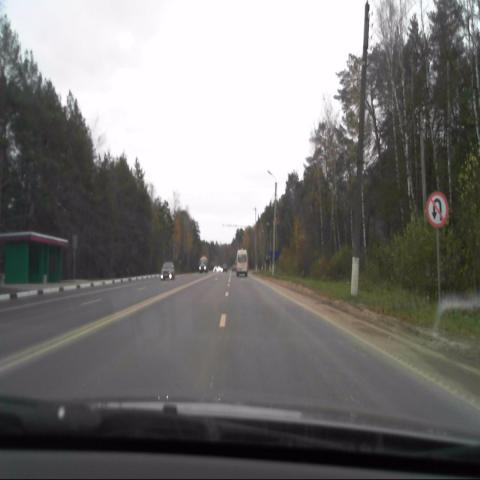3_19: (424, 189, 450, 230)
